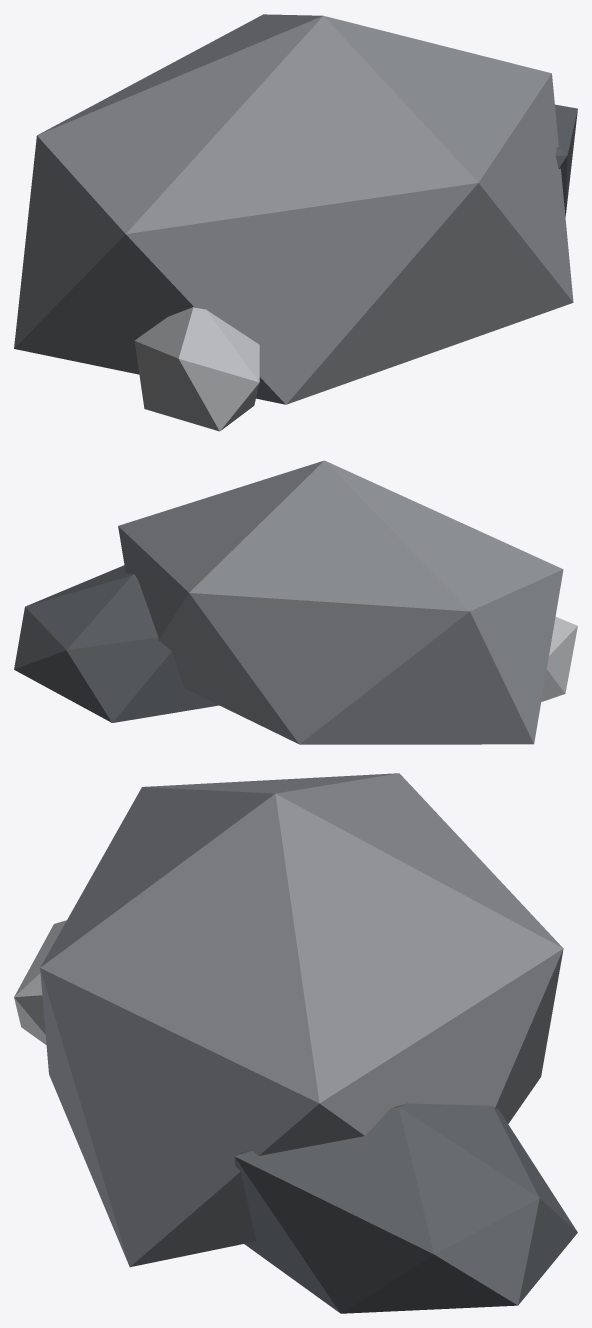
Rendered from RockLarge.fbx.
3 views of the same model, one above another, from view 1: azimuth 30°, elevation 25°; view 2: azimuth 150°, elevation 25°; view 3: azimuth 270°, elevation 25° (orthographic). The views are drawn at different scales.
Parts seen in each view (by area): view 1: RockLarge; view 2: RockLarge; view 3: RockLarge.
Boxes of the visible parts, x1,y1,x2,y2 form: RockLarge: [14, 14, 577, 431]; RockLarge: [14, 460, 577, 744]; RockLarge: [14, 773, 577, 1313].
Size of the model in its own units: 8.41 by 3.84 by 5.48.
1 material, 1 textured.
